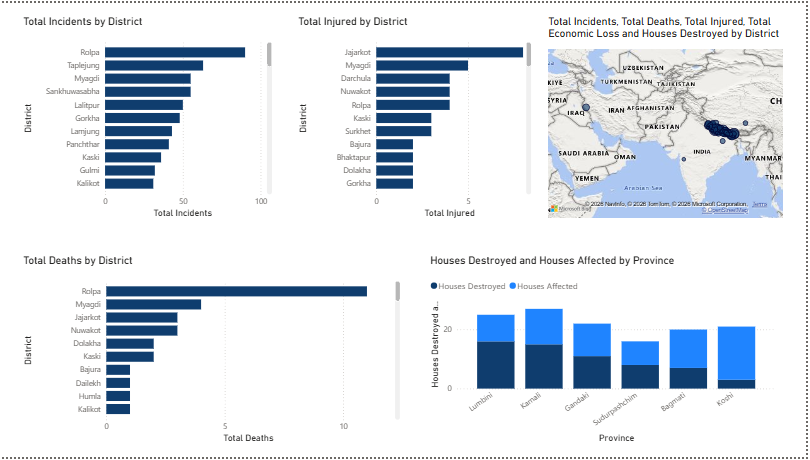

The dashboard page shown, as its layout file describes it:
{"tool":"powerbi","page":{"name":"District & Province Analysis","canvas":[1280,720],"ordinal":1},"visuals":[{"type":"barChart","fields":{"Category":["incidents-wise.District"],"Y":["Dim_Date.Total Incidents"]},"box":[31.7,18.3,405,326.7],"z":0},{"type":"barChart","fields":{"Y":["Dim_Date.Total Deaths"],"Category":["incidents-wise.District"]},"box":[31.7,398.3,608.3,305],"z":1000},{"type":"barChart","fields":{"Y":["Dim_Date.Total Injured"],"Category":["incidents-wise.District"]},"box":[468.3,18.3,380,326.7],"z":2000},{"type":"columnChart","fields":{"Category":["incidents-wise.Province"],"Y":["Dim_Date.Houses Destroyed","Dim_Date.Houses Affected"]},"box":[678.3,398.3,558.3,305],"z":3000},{"type":"map","fields":{"Category":["incidents-wise.District"],"Size":["Dim_Date.Total Incidents"]},"box":[865,18.3,383.3,326.7],"z":4000}]}

Visuals, with their boxes in screenshot pixels (x1, y1, x2, y2), scaled from the page's 1280x720 canvas onto the 810x460 screenshot:
barChart - incidents-wise.District x Dim_Date.Total Incidents: 20, 12, 276, 220
barChart - Dim_Date.Total Deaths x incidents-wise.District: 20, 254, 405, 449
barChart - Dim_Date.Total Injured x incidents-wise.District: 296, 12, 537, 220
columnChart - incidents-wise.Province x Dim_Date.Houses Destroyed: 429, 254, 783, 449
map - incidents-wise.District x Dim_Date.Total Incidents: 547, 12, 790, 220
